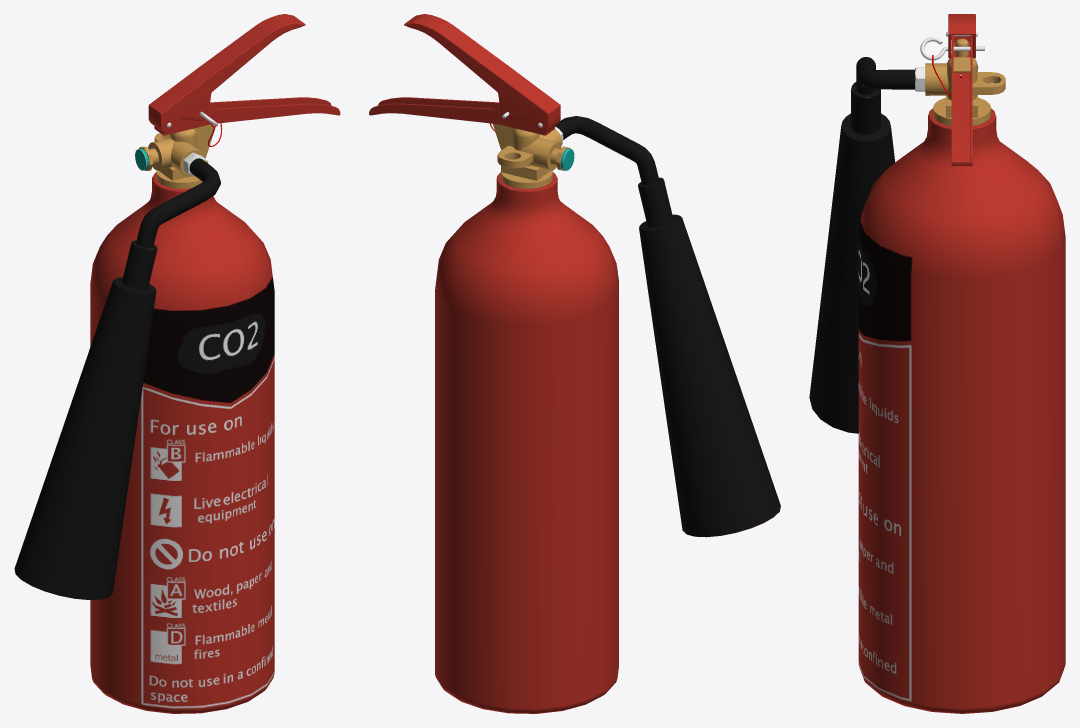
The model's file is co2_silinder.glb.
3 renders of one model, left to right at view 1: azimuth 30°, elevation 25°; view 2: azimuth 150°, elevation 25°; view 3: azimuth 270°, elevation 25°, orthographic. The views are drawn at different scales.
Parts seen in each view (by area): view 1: pCylinder2, pCylinder3, polySurface5, pPlane2, polySurface9, pCylinder16; view 2: pCylinder2, pCylinder3, polySurface5, polySurface9, pPlane2, pCylinder16; view 3: pCylinder2, pCylinder3, polySurface9, pPlane2, pCylinder16, polySurface5, pCylinder6, pTorus2.
Part boxes in pixels (x1,y1,x2,y2): pCylinder2: (90, 172, 274, 713); pCylinder3: (14, 240, 157, 599); polySurface5: (148, 14, 305, 132); pPlane2: (154, 97, 340, 135); polySurface9: (135, 124, 215, 180); pCylinder16: (136, 158, 220, 247); pCylinder2: (435, 172, 618, 713); pCylinder3: (638, 177, 780, 537); polySurface5: (404, 14, 560, 132); polySurface9: (493, 123, 574, 180); pPlane2: (369, 97, 555, 135); pCylinder16: (555, 116, 659, 185); pCylinder2: (858, 108, 1065, 713); pCylinder3: (809, 82, 895, 433); polySurface9: (925, 38, 1005, 117); pPlane2: (951, 35, 972, 165); pCylinder16: (856, 57, 914, 94); polySurface5: (948, 14, 975, 58); pCylinder6: (933, 97, 991, 125); pTorus2: (920, 37, 984, 60).
Bounding box in the file's own units: 0.3418 × 0.5792 × 0.1898.
1 material, 1 textured.
